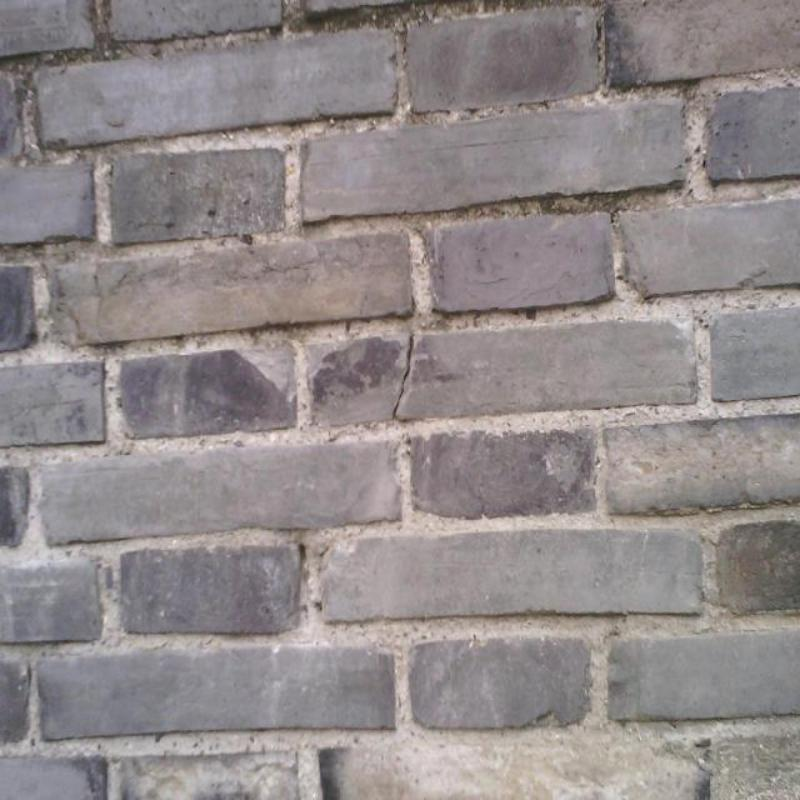pothole: (393, 335, 414, 420)
